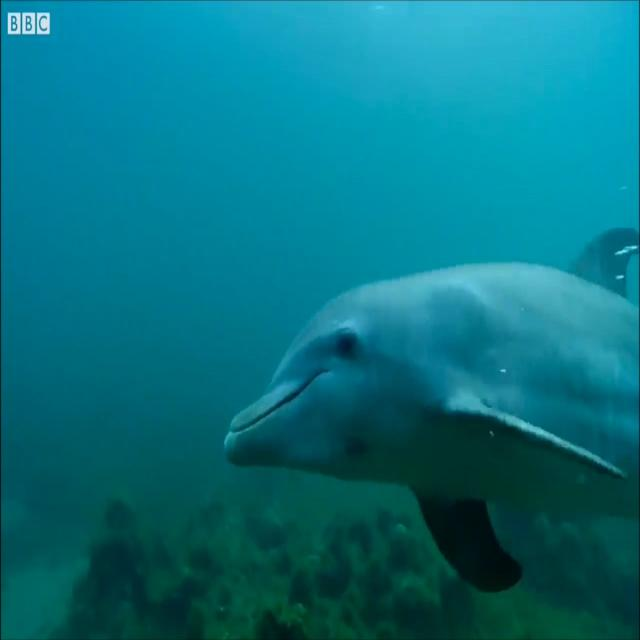Dolphin: (224, 225, 640, 596)
